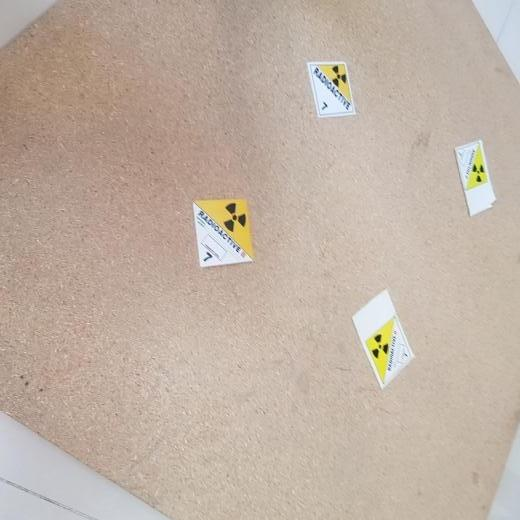radioactive: (194, 197, 253, 270), (358, 316, 415, 385), (308, 61, 355, 118), (456, 140, 489, 195)
